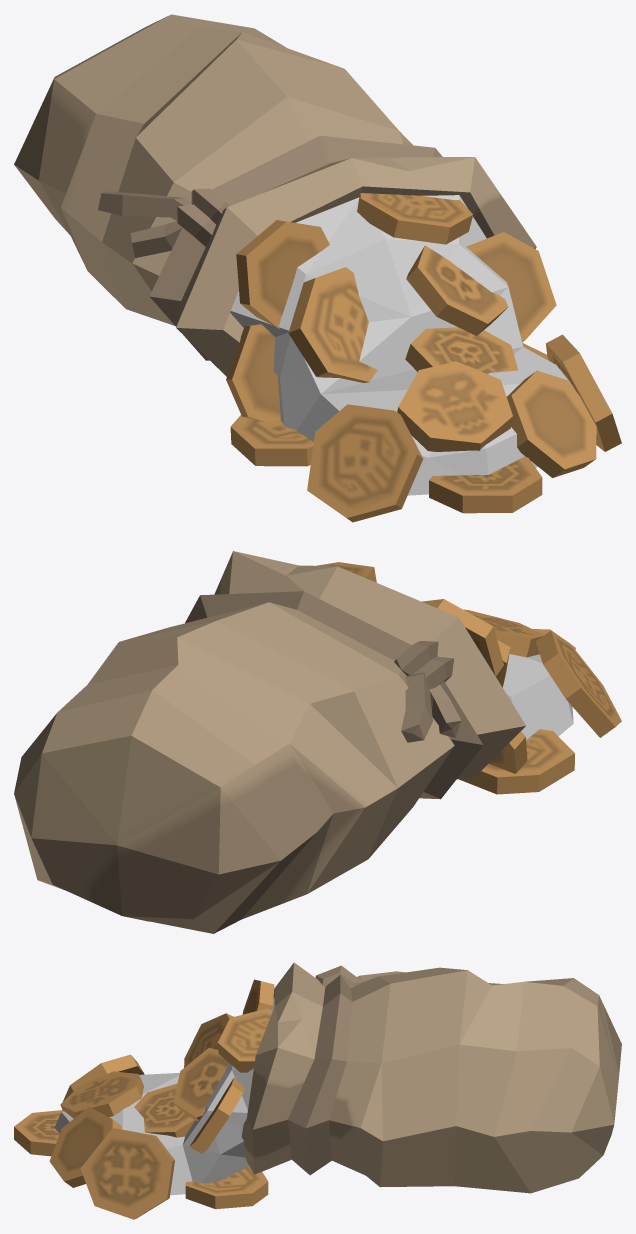
Rendered from SM_Prop_Coin_Pouch_02.fbx.
3 views of the same model, one above another, from view 1: azimuth 30°, elevation 25°; view 2: azimuth 150°, elevation 25°; view 3: azimuth 270°, elevation 25° (orthographic). The views are drawn at different scales.
Visible parts, largest first — view 1: SM_Prop_Coin_Pouch_02; view 2: SM_Prop_Coin_Pouch_02; view 3: SM_Prop_Coin_Pouch_02.
Boxes of the visible parts, bbox=[...] form: SM_Prop_Coin_Pouch_02: bbox=[14, 14, 621, 522]; SM_Prop_Coin_Pouch_02: bbox=[14, 551, 621, 933]; SM_Prop_Coin_Pouch_02: bbox=[14, 962, 621, 1219].
Bounding box in the file's own units: 25.89 × 19.45 × 53.33.
